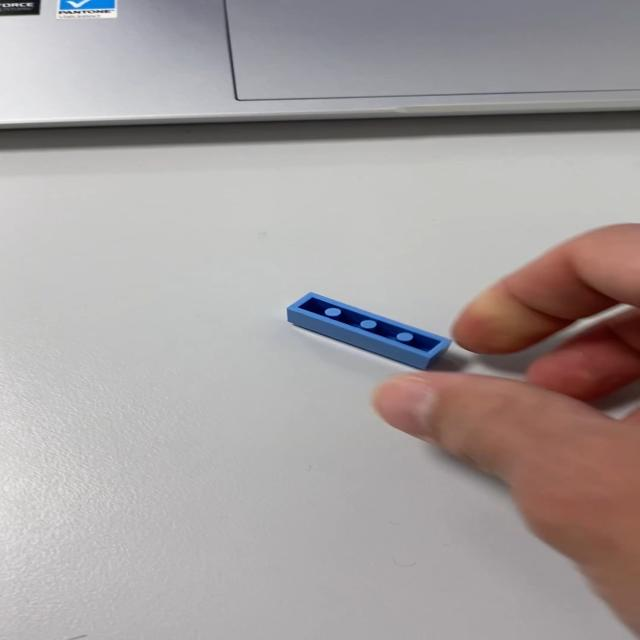C4x1x1: (285, 290, 452, 370)
